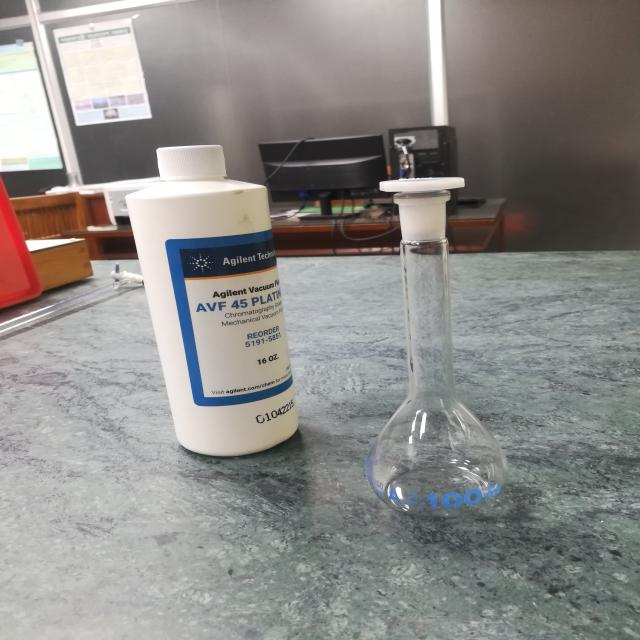Volumetric_Flask: (349, 138, 540, 526)
